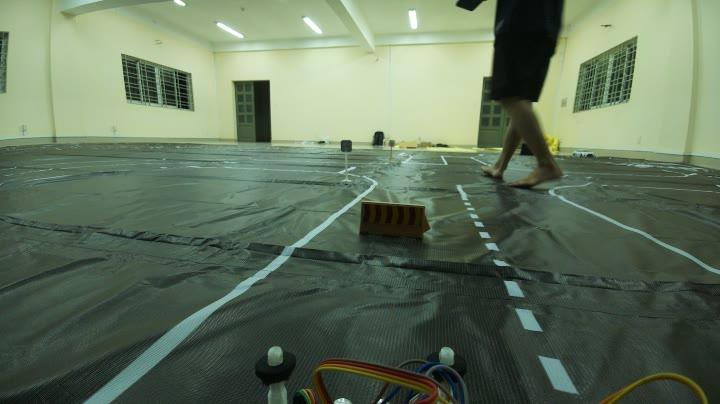roadblock: (350, 187, 444, 253)
